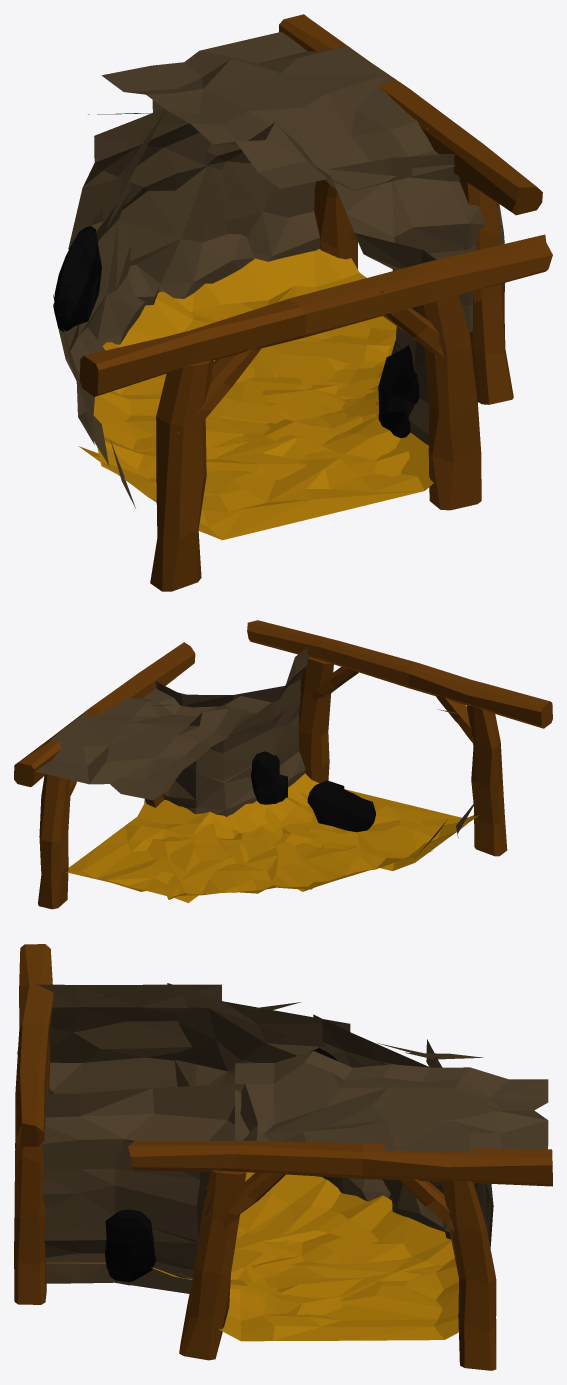
File: mine_tunnel_curve.fbx
The picture shows the model from 3 angles, top to bottom: view 1: azimuth 30°, elevation 25°; view 2: azimuth 150°, elevation 25°; view 3: azimuth 270°, elevation 25°; orthographic projection. The views are drawn at different scales.
Visible parts, largest first — view 1: Floor.003, arch1.001, Plane.005, Plane.000, arch1, Plane.001, CoalOre.001, CoalOre; view 2: Floor.003, arch1.001, Plane.000, Plane.001, arch1, CoalOre.001, CoalOre; view 3: Floor.003, arch1, Plane.005, Plane.001, Plane.000, arch1.001, CoalOre.
Part boxes in pixels (x1,y1,x2,y2): Floor.003: (78, 249, 433, 540); arch1.001: (79, 234, 552, 591); Plane.005: (53, 68, 319, 508); Plane.000: (88, 32, 454, 190); arch1: (279, 14, 542, 404); Plane.001: (328, 154, 504, 445); CoalOre.001: (54, 226, 101, 331); CoalOre: (378, 345, 419, 438); Floor.003: (65, 773, 479, 902); arch1.001: (247, 620, 552, 856); Plane.000: (36, 688, 466, 800); Plane.001: (144, 647, 308, 816); arch1: (14, 642, 195, 909); CoalOre.001: (307, 780, 375, 832); CoalOre: (251, 751, 287, 804); Floor.003: (46, 1172, 458, 1341); arch1: (128, 1141, 552, 1370); Plane.005: (35, 983, 493, 1247); Plane.001: (26, 1083, 257, 1345); Plane.000: (85, 986, 548, 1155); arch1.001: (14, 944, 53, 1304); CoalOre: (105, 1209, 155, 1285).
Bounding box in the file's own units: 1813 × 901 × 1869.
